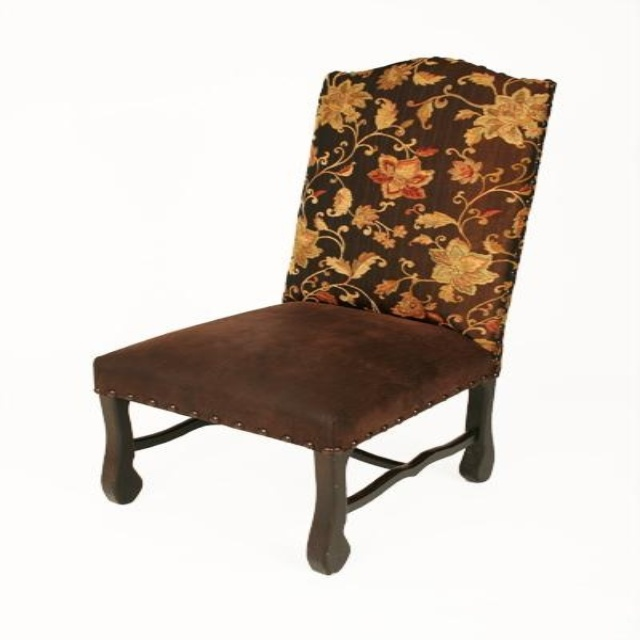obstacle: (94, 58, 554, 573)
